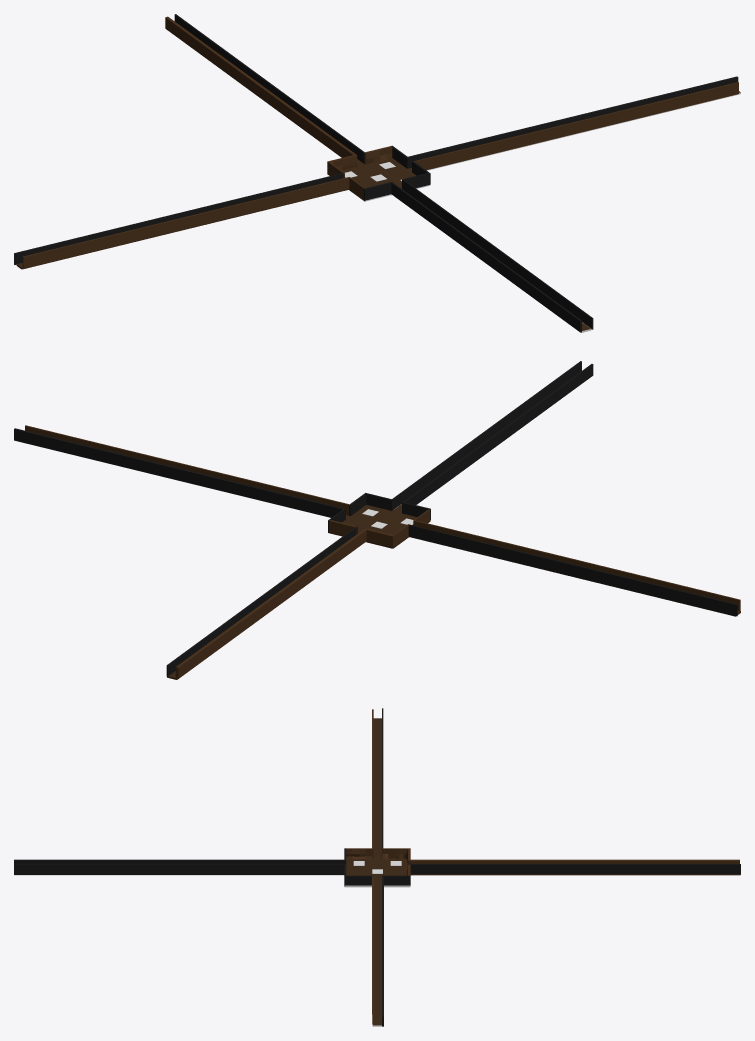
Rendered from sala1DET.fbx.
3 views of the same model, one above another, from view 1: azimuth 30°, elevation 25°; view 2: azimuth 150°, elevation 25°; view 3: azimuth 270°, elevation 25° (orthographic). The views are drawn at different scales.
Parts seen in each view (by area): view 1: paredes_izq_arriba1, paredes_der_abajo1, suelo1; view 2: paredes_der_abajo1, paredes_izq_arriba1, suelo1; view 3: paredes_der_abajo1, suelo1, paredes_izq_arriba1.
Part boxes in pixels (x1=…): paredes_izq_arriba1: x1=22, y1=16, x2=738, y2=268; paredes_der_abajo1: x1=14, y1=14, x2=738, y2=332; suelo1: x1=16, y1=91, x2=740, y2=332; paredes_der_abajo1: x1=14, y1=361, x2=737, y2=676; paredes_izq_arriba1: x1=25, y1=425, x2=740, y2=678; suelo1: x1=19, y1=441, x2=740, y2=679; paredes_der_abajo1: x1=14, y1=708, x2=740, y2=1026; suelo1: x1=15, y1=718, x2=740, y2=1026; paredes_izq_arriba1: x1=346, y1=709, x2=739, y2=1024.
Bounding box in the file's own units: 40561 × 665 × 40381.
